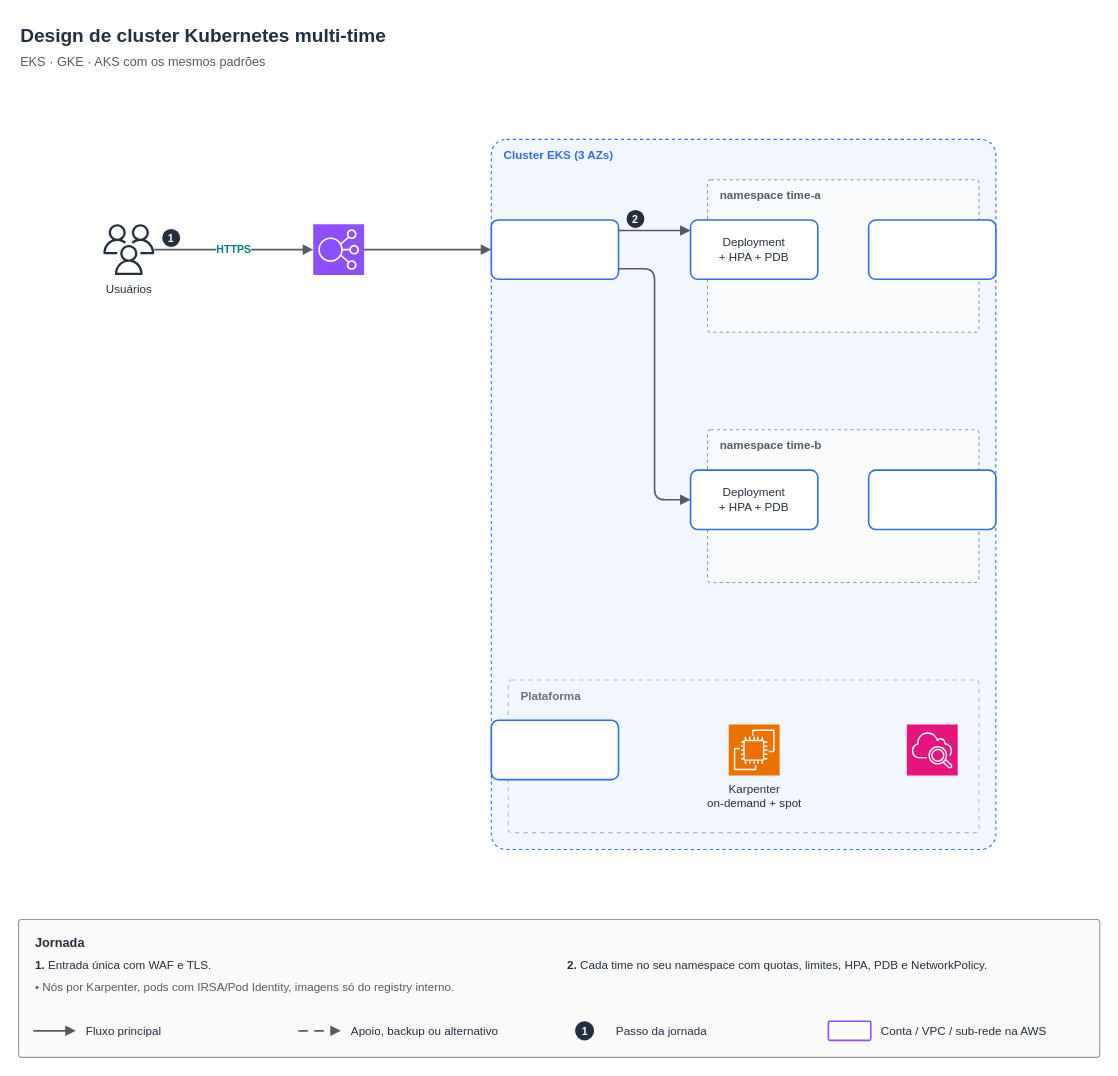
The diagram is 1118 pixels wide and 1076 high, and some of its shapes have lost their labels. Here are the shapes that lost their labels. From the top down, the centre of each, then its label:
At point 338,249: "ALB / NLB + WAF".
At point 554,249: "Ingress controller".
At point 931,249: "NetworkPolicy deny-all".
At point 931,499: "ResourceQuota LimitRange".
At point 554,749: "Add-ons CoreDNS · CNI · CSI".
At point 932,749: "Fluent Bit Prometheus".
